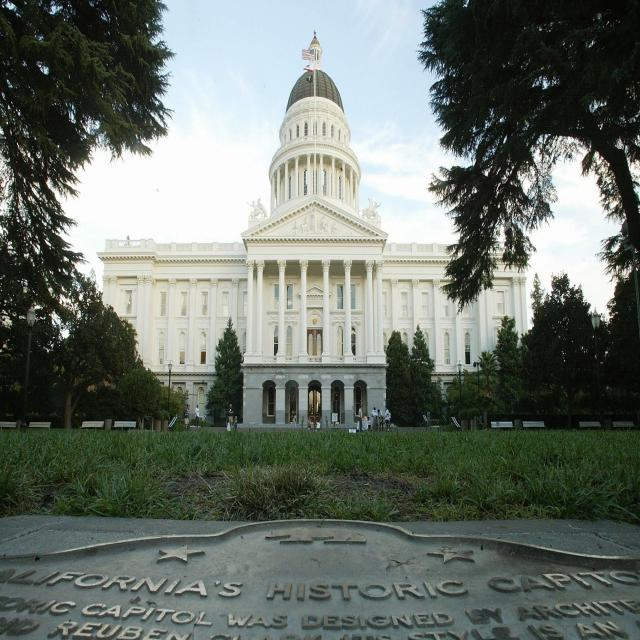body: (371, 406, 381, 432), (357, 404, 364, 434), (377, 408, 384, 433), (383, 405, 389, 432), (228, 403, 234, 428), (194, 403, 200, 428), (184, 406, 189, 430), (312, 415, 318, 432), (225, 413, 230, 432), (292, 409, 296, 430), (307, 415, 312, 431), (187, 402, 191, 420), (324, 415, 329, 428), (367, 416, 371, 432), (300, 415, 304, 431), (234, 416, 238, 430), (388, 411, 392, 425), (319, 415, 322, 433), (332, 413, 337, 422)
